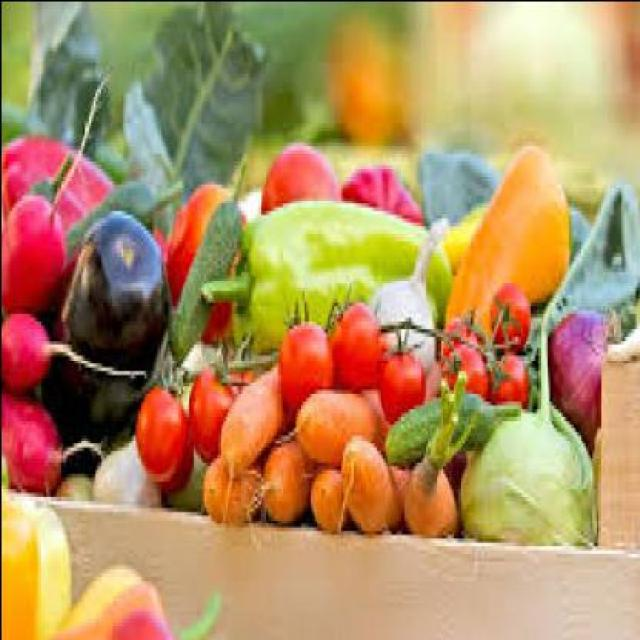BIODEGRADABLE: (205, 194, 452, 351), (41, 206, 168, 468), (461, 313, 602, 542), (125, 2, 269, 183), (444, 137, 573, 335), (14, 1, 117, 172), (170, 152, 248, 351), (552, 178, 638, 358), (46, 560, 220, 637), (405, 361, 478, 534), (168, 178, 246, 336), (2, 133, 113, 244), (2, 95, 132, 178), (67, 167, 182, 259), (2, 499, 75, 636), (551, 297, 623, 434), (386, 388, 519, 461), (294, 373, 388, 461), (2, 187, 68, 308), (279, 286, 338, 408), (218, 362, 285, 469), (342, 431, 409, 529), (189, 346, 248, 457), (2, 388, 66, 484), (420, 144, 497, 222), (140, 362, 192, 469), (262, 137, 338, 209), (2, 306, 68, 388), (91, 426, 160, 503), (327, 290, 379, 388), (380, 316, 429, 419), (341, 161, 427, 213), (264, 423, 308, 519), (208, 446, 261, 522), (491, 278, 534, 351), (446, 335, 491, 400), (160, 423, 197, 495), (309, 461, 343, 525), (491, 343, 529, 400), (440, 309, 480, 362), (52, 464, 96, 496)
